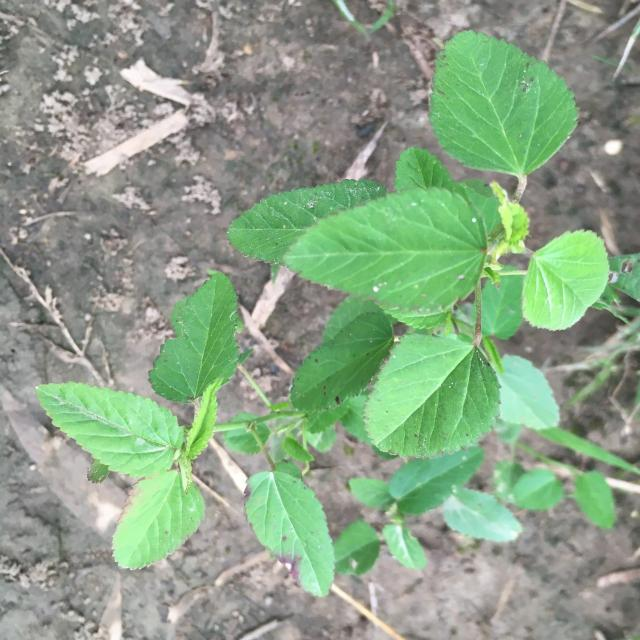PricklySida: (35, 29, 618, 598)
